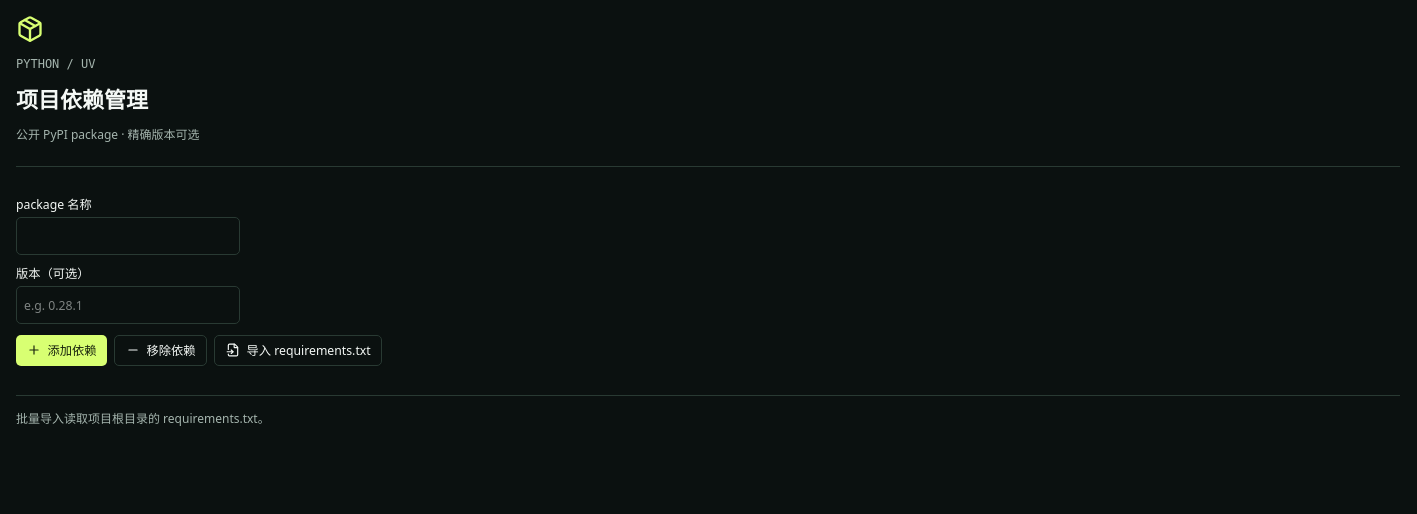
Test: PythonDependenciesPanel requirements.txt import › surfaces the backend validation rejection for a requirements.txt over the line limit without fabricating success
The width and height of the screenshot is (1417, 514).
Click the button with aria-label "Import requirements.txt" at (298, 350), box [214,334,382,366]
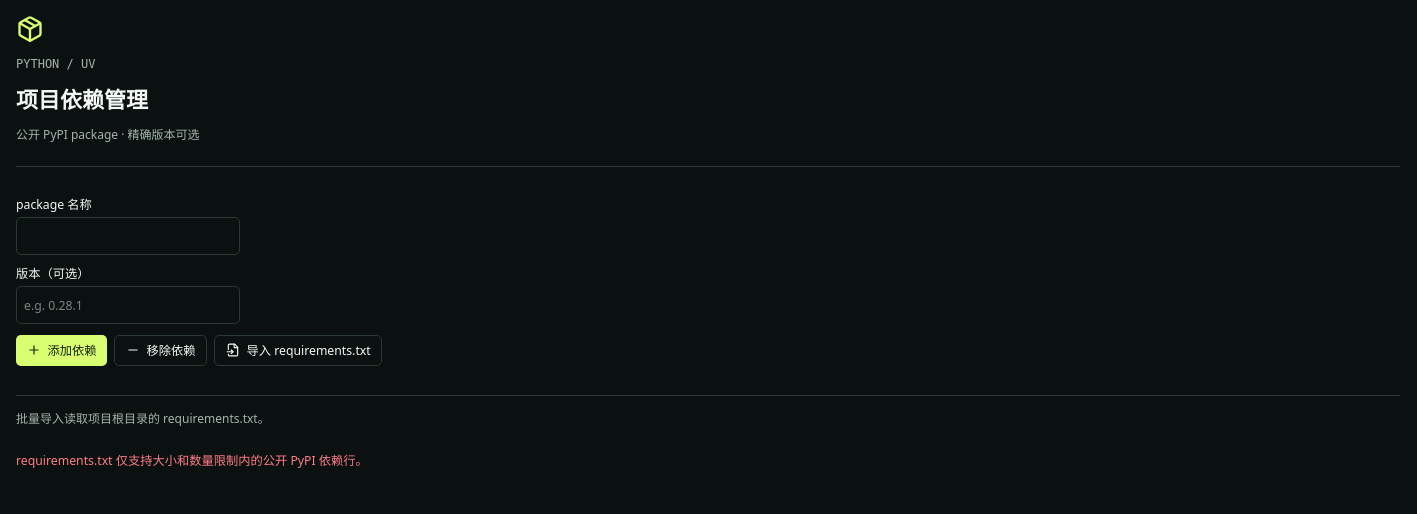
Expected: the message "requirements.txt 仅支持大小和数量限制内的公开 PyPI 依赖行。" is shown, [16,452,368,469]
